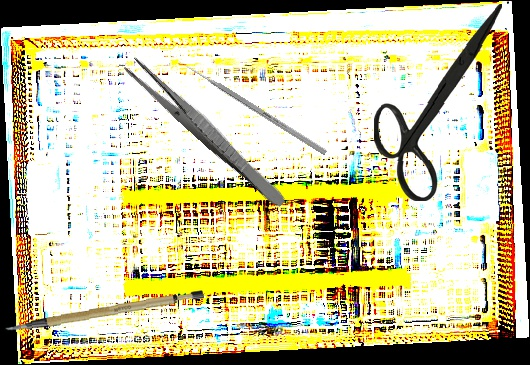Dressing Forceps: (121, 53, 292, 211)
Iris Scissors: (371, 4, 506, 202)
Pusher: (177, 58, 328, 156)
Scalpel Handle: (2, 287, 205, 333)
